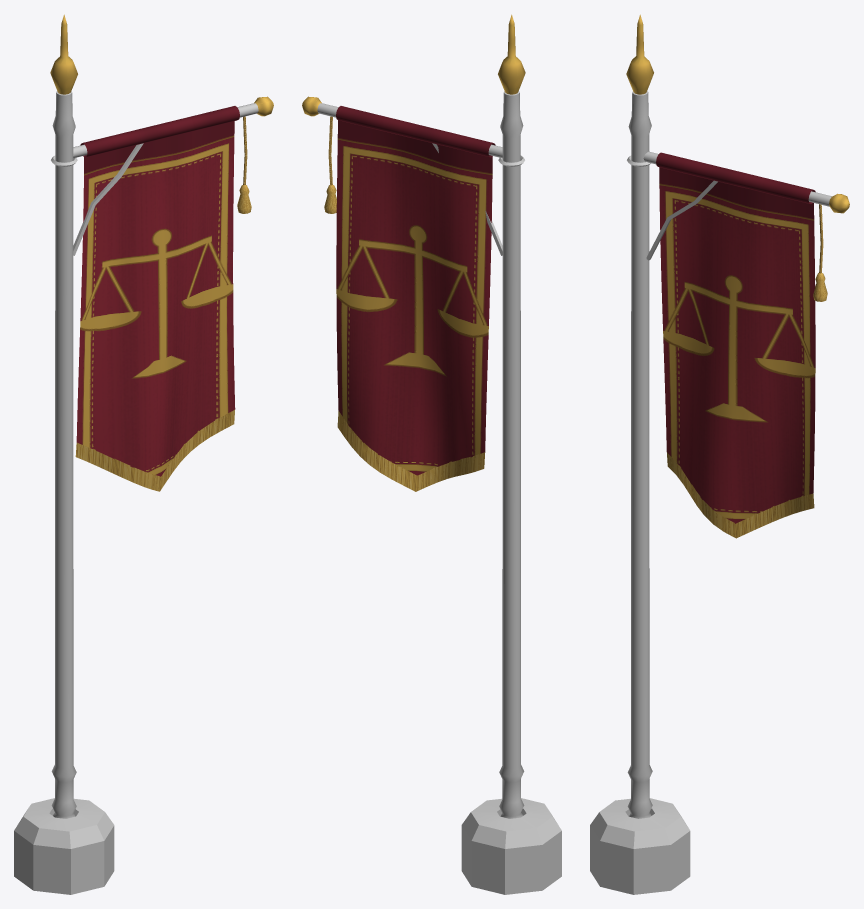
Rendered from SE_Banner_MarketTown.glb.
The picture shows the model from 3 angles, left to right: view 1: azimuth 30°, elevation 25°; view 2: azimuth 150°, elevation 25°; view 3: azimuth 330°, elevation 25°; orthographic projection.
Parts seen in each view (by area): view 1: SE_Banner_MarketTown; view 2: SE_Banner_MarketTown; view 3: SE_Banner_MarketTown.
Boxes of the visible parts, <box> form: SE_Banner_MarketTown: <box>14,14,273,894</box>; SE_Banner_MarketTown: <box>302,14,561,894</box>; SE_Banner_MarketTown: <box>590,14,849,894</box>.
Size of what is drawn, in the model's own units: 1.53 by 5.06 by 0.4989.
